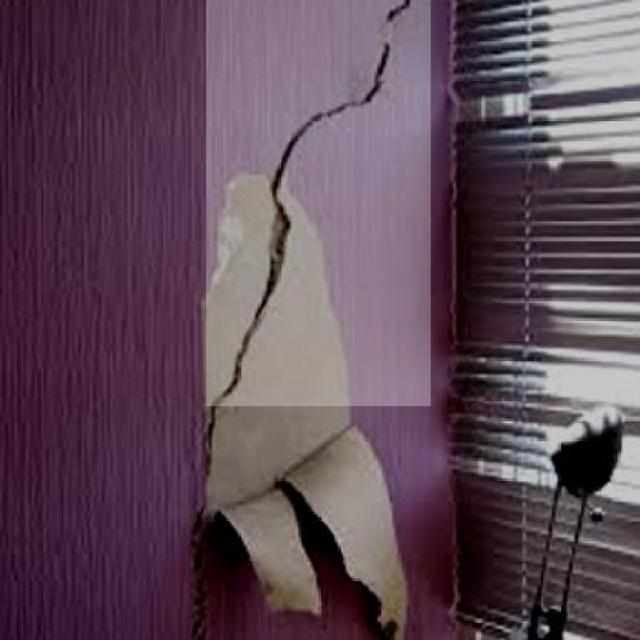Crack: (206, 0, 423, 403)
